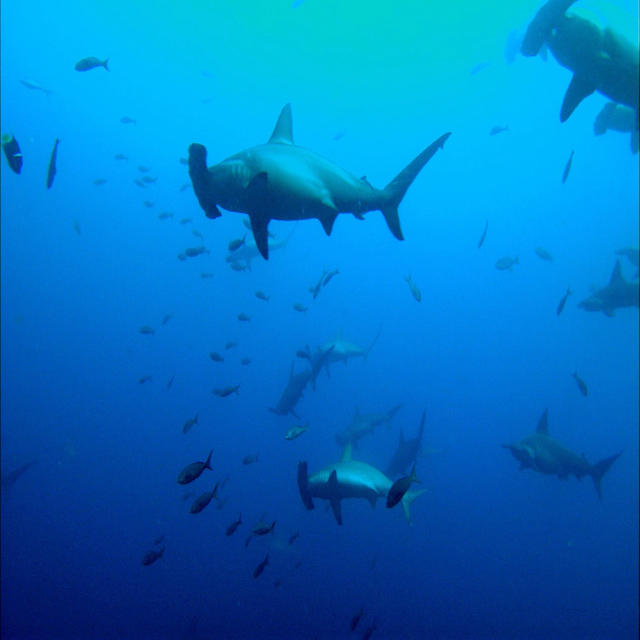hammerhead: (163, 132, 352, 228), (523, 1, 625, 126), (291, 453, 374, 531), (279, 318, 353, 377), (504, 428, 569, 491)
